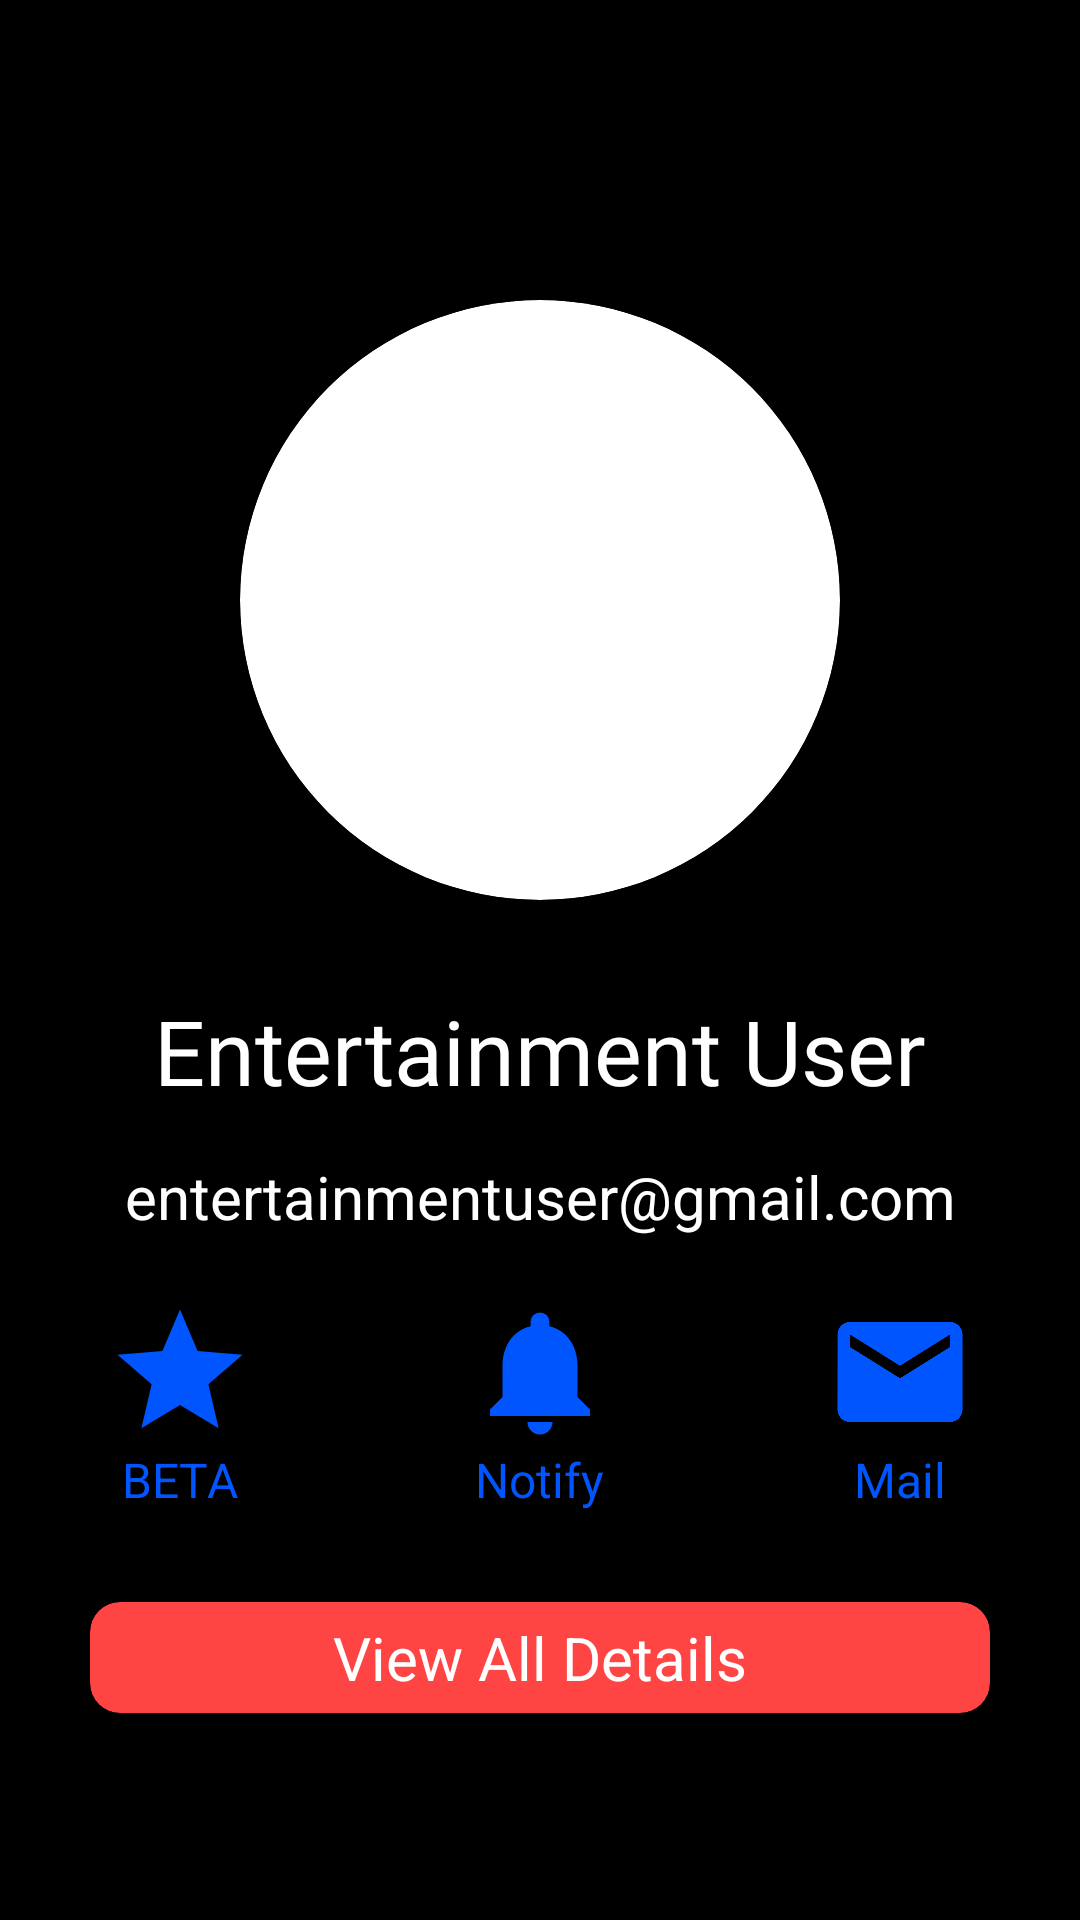

Named icons in this screenshot (1080px x 1920px) and their bounding boxes, (x1, y1, x2, y2):
star: (118, 1310, 242, 1428)
